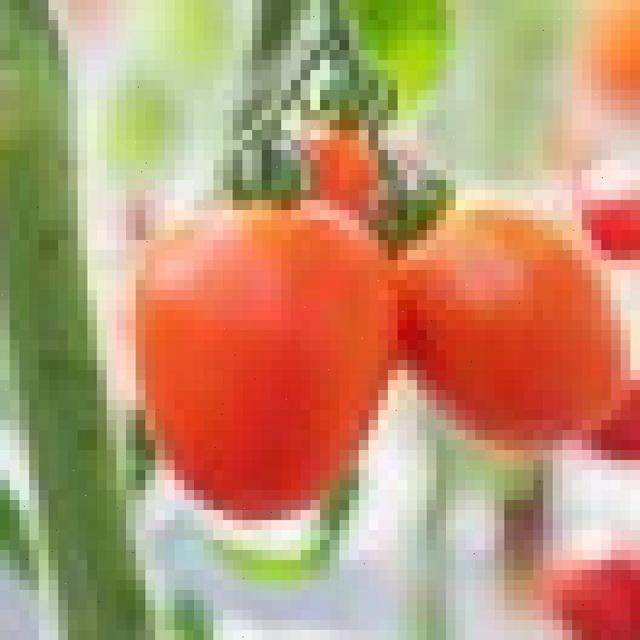Healthy Fruit: (146, 201, 342, 236)
